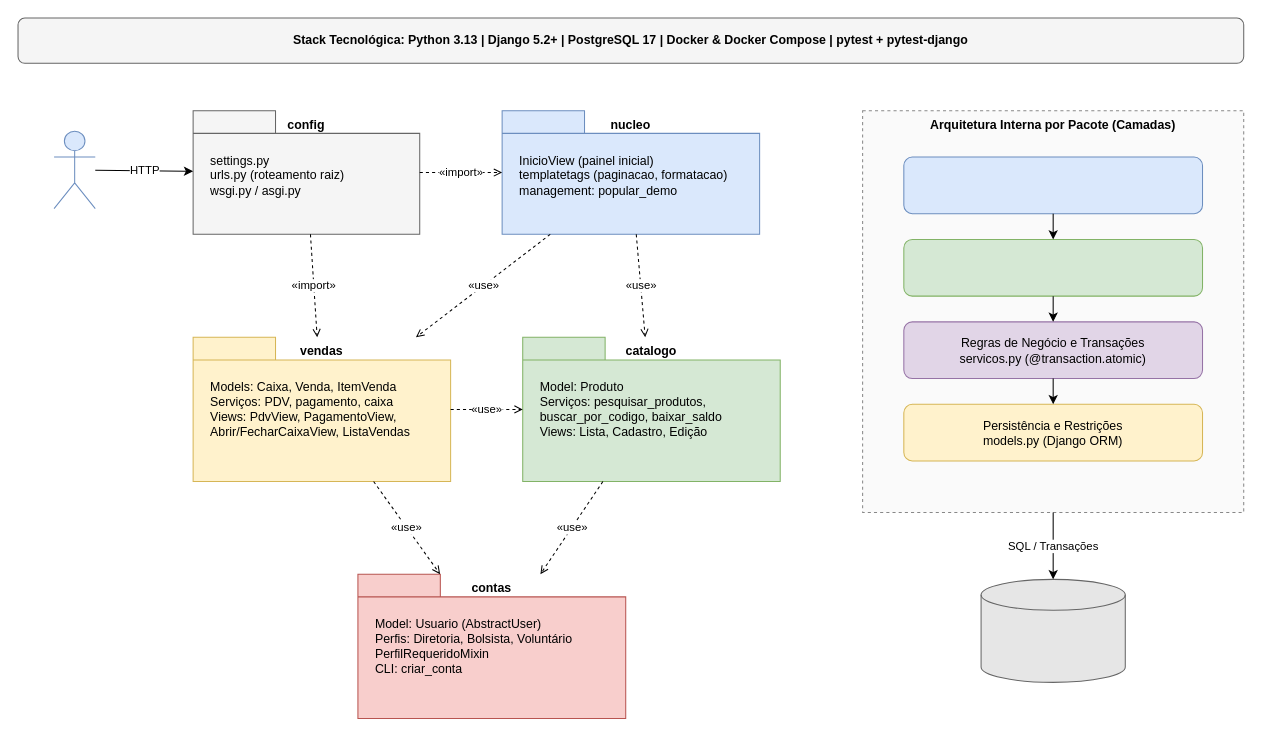
The diagram is 1262 pixels wide and 736 high, and some of its shapes have lost their labels. Here are the shapes that lost their labels. From the top down, the centre of each, then its label:
point (74, 169): Operador / Diretoria (Navegador Web)
point (1053, 185): Apresentação templates/ + static/css/app.css
point (1053, 267): Controle HTTP e Validação views.py + forms.py
point (1052, 630): PostgreSQL 17 (dados_postgres)
